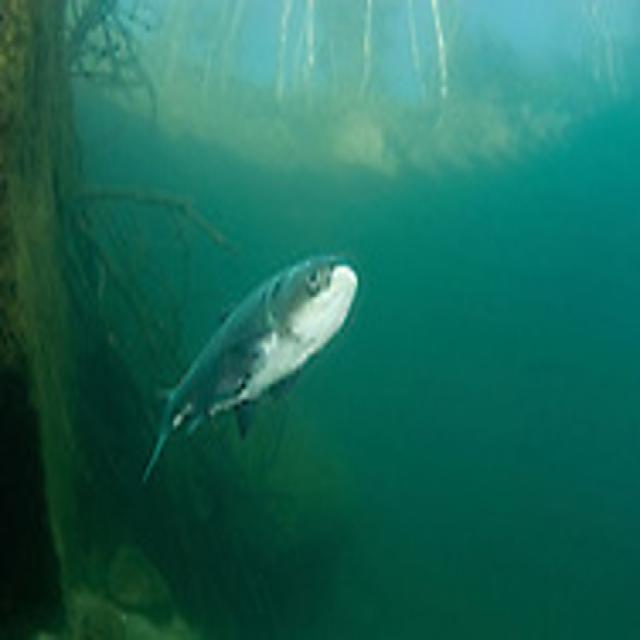Big-Head-Carp: (146, 236, 374, 550)
